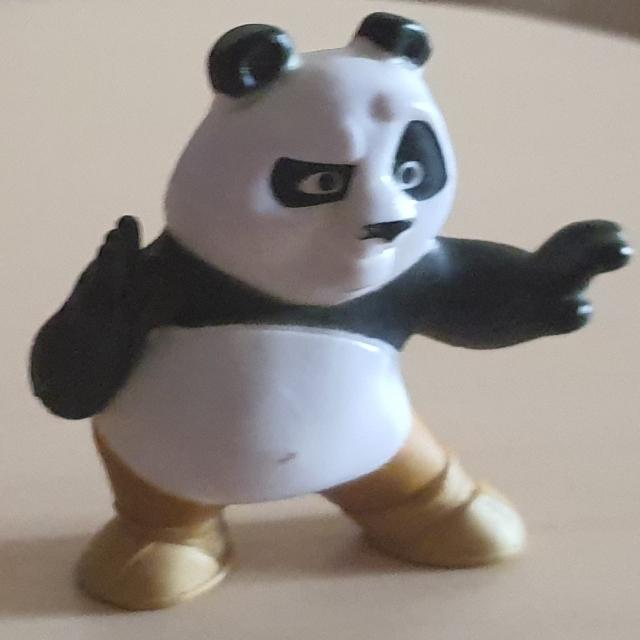Panda: (28, 11, 634, 611)
